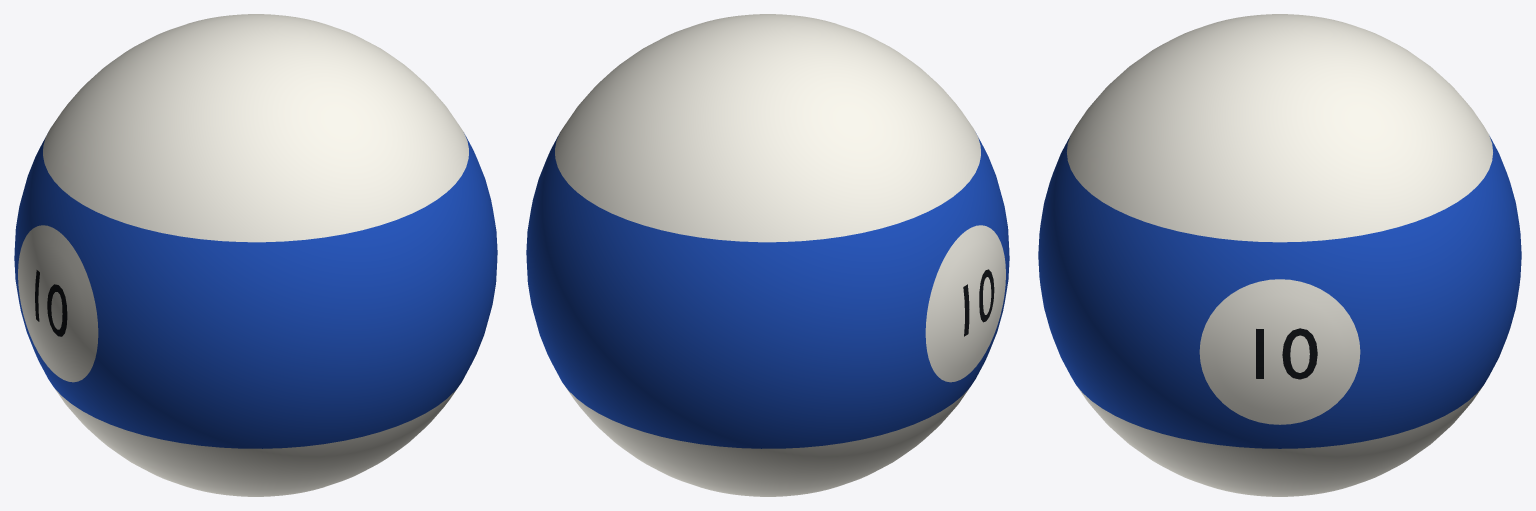
File: ball_10.glb
The picture shows the model from 3 angles, left to right: view 1: azimuth 30°, elevation 25°; view 2: azimuth 150°, elevation 25°; view 3: azimuth 270°, elevation 25°; orthographic projection.
Parts seen in each view (by area): view 1: Ball 10 | resin, Ball 10 | number medallion | opposite, Ball 10 | numeral 10 | opposite; view 2: Ball 10 | resin, Ball 10 | number medallion | opposite, Ball 10 | numeral 10 | opposite; view 3: Ball 10 | resin, Ball 10 | number medallion, Ball 10 | numeral 10.
Part boxes in pixels (box(x1,y1,x2,y2)): Ball 10 | resin: box(14, 14, 497, 496); Ball 10 | number medallion | opposite: box(18, 225, 98, 382); Ball 10 | numeral 10 | opposite: box(35, 270, 67, 336); Ball 10 | resin: box(526, 14, 1009, 496); Ball 10 | number medallion | opposite: box(925, 225, 1005, 382); Ball 10 | numeral 10 | opposite: box(963, 269, 994, 336); Ball 10 | resin: box(1038, 14, 1521, 496); Ball 10 | number medallion: box(1199, 279, 1360, 424); Ball 10 | numeral 10: box(1256, 328, 1317, 379).
Size of the model in its own units: 0.0573 by 0.0571 by 0.0571.
